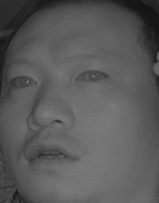eye: (75, 65, 109, 87), (6, 71, 37, 91)
mouth: (21, 131, 78, 173)
